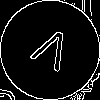V: (25, 25, 75, 81)
